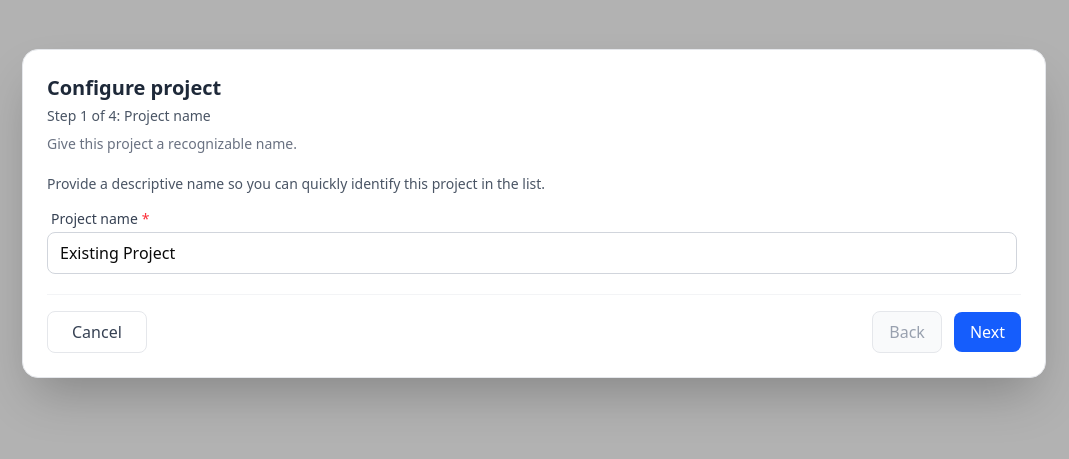
Test: ProjectConfigurationWizard › navigates between steps
Click the button "Next" at (987, 332), box x1=954 y1=312 x2=1021 y2=352
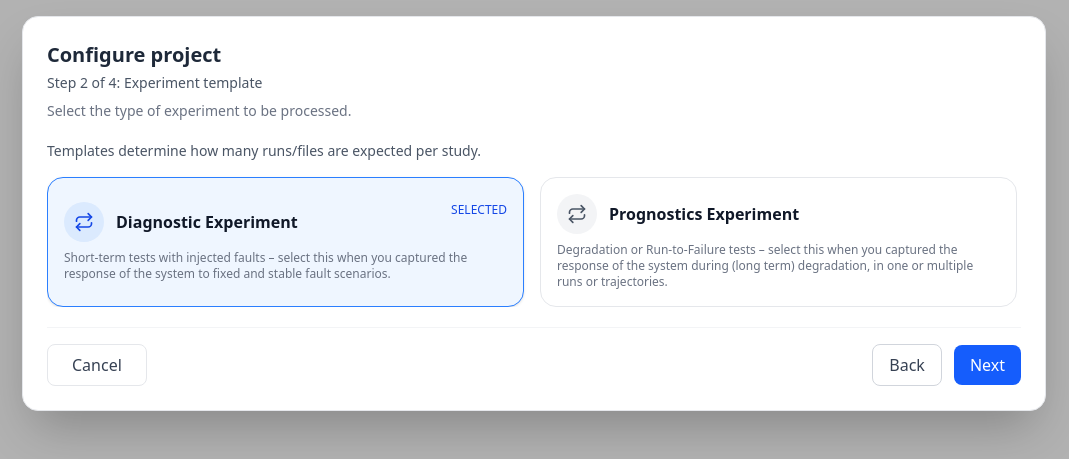
Expected: the text "Step 2 of 4: Experiment template" is shown, x1=47 y1=72 x2=262 y2=92
Click the button "Back" at (907, 364), box x1=872 y1=344 x2=942 y2=386
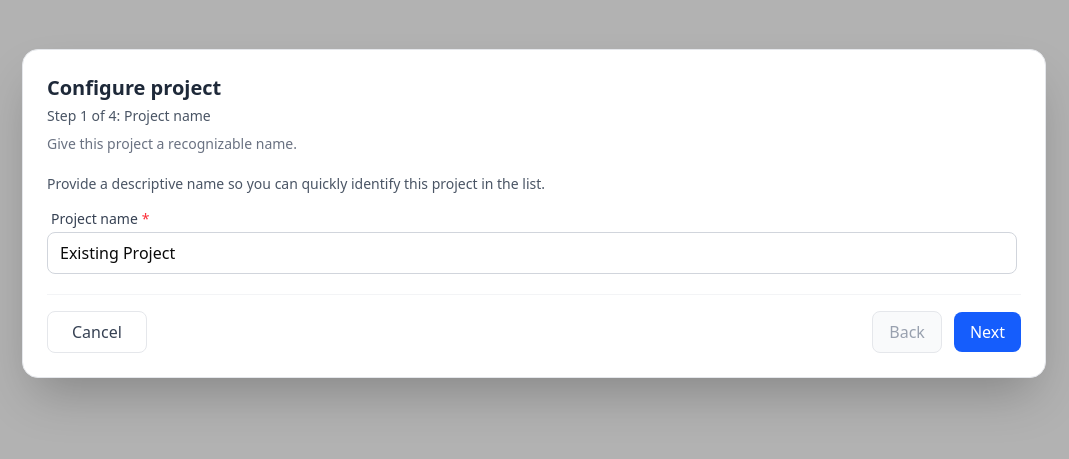
Expected: the text "Step 1 of 4: Project name" is shown, x1=47 y1=106 x2=211 y2=124
